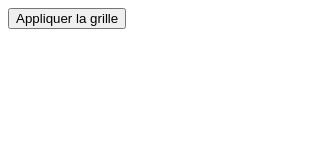
Scenario: AidesDevis › montre le détail du calcul et n'écrit rien avant « Utiliser »
Later steps or results of the test are not shown.
Click the button "Appliquer la grille".
click(67, 18)  # box [8,8,126,29]
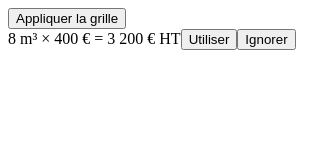
Check: the text "8 m³ × 400 € = 3 200 € HT" is shown, box [8,30,181,47]
